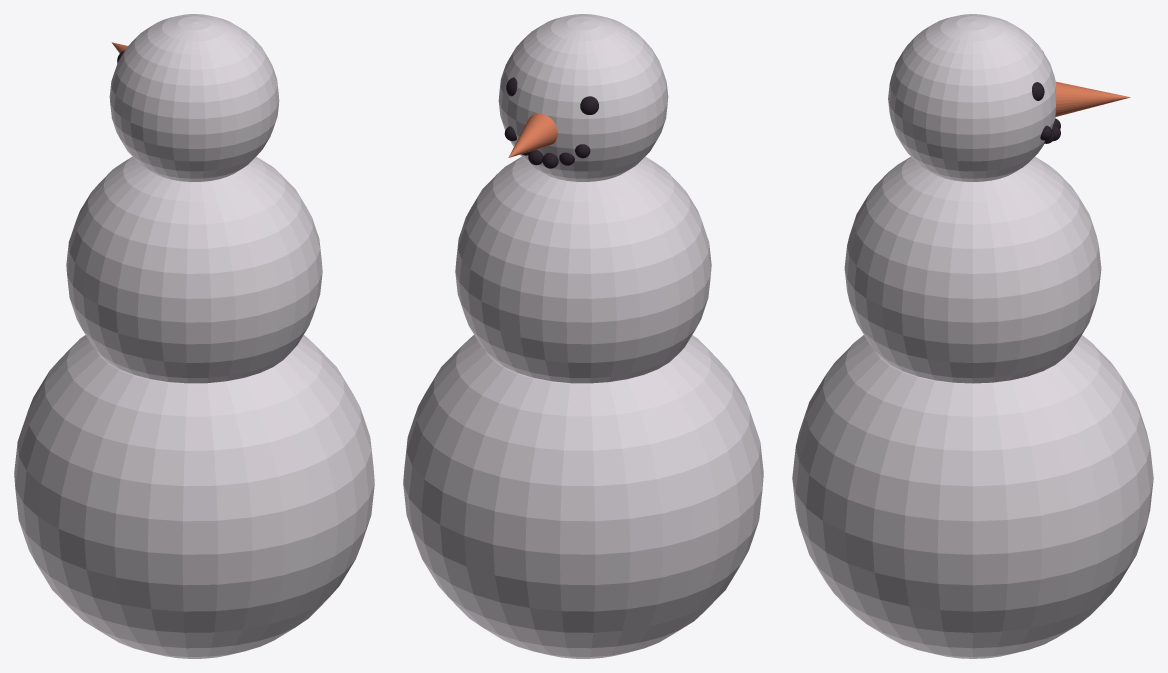
File: SNOWMAN.fbx
3 views of the same model, side by side, from view 1: azimuth 30°, elevation 25°; view 2: azimuth 150°, elevation 25°; view 3: azimuth 270°, elevation 25° (orthographic).
Parts seen in each view (by area): view 1: Sphere; view 2: Sphere, Sphere.004, Cone; view 3: Sphere, Cone, Sphere.004.
Part boxes in pixels (x1=…): Sphere: x1=14, y1=14, x2=374, y2=658; Sphere: x1=403, y1=14, x2=763, y2=658; Sphere.004: x1=504, y1=77, x2=598, y2=168; Cone: x1=508, y1=113, x2=557, y2=157; Sphere: x1=792, y1=14, x2=1153, y2=658; Cone: x1=1055, y1=81, x2=1130, y2=116; Sphere.004: x1=1032, y1=82, x2=1060, y2=143.
Size of the model in its own units: 200 by 379 by 200.
3 materials, 3 textured.
